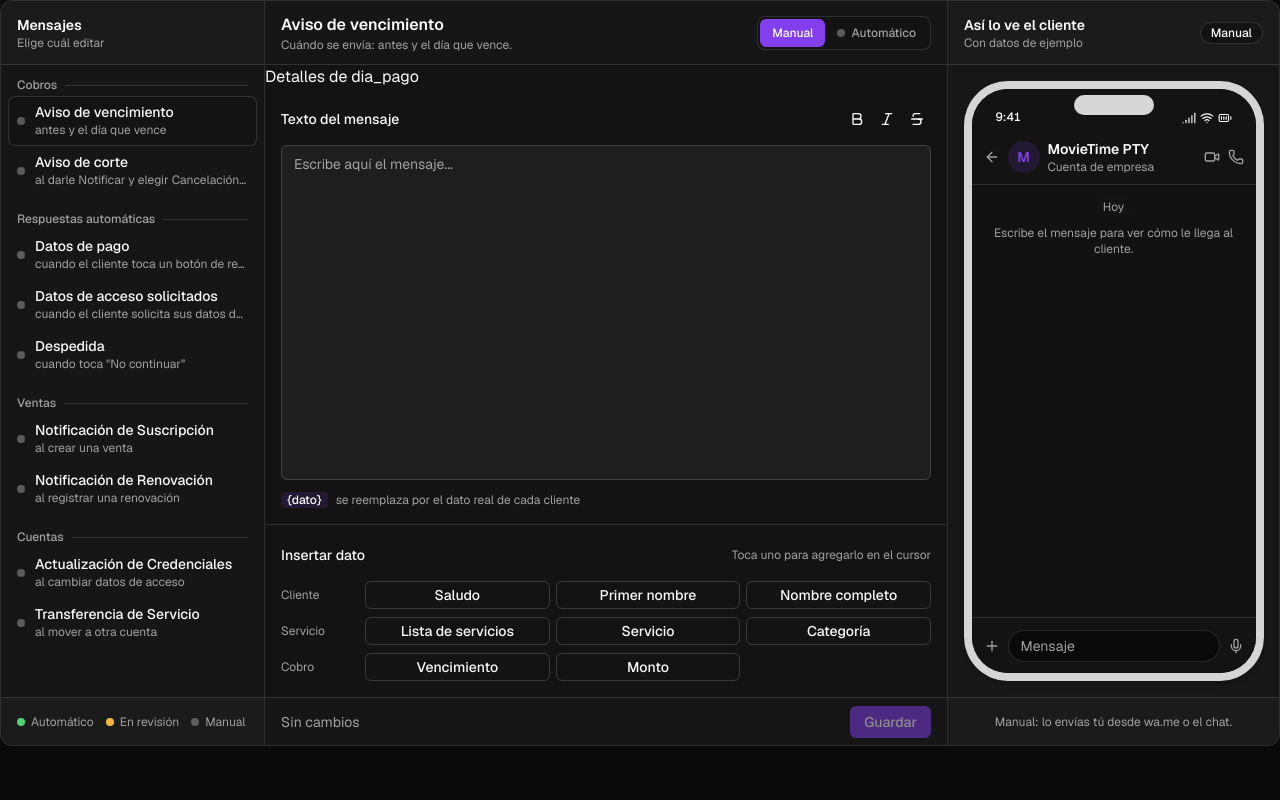
TemplateEditor › shows the extra details of the selected message and follows the selection
Expected: the text with test id "details" reads "Detalles de dia_pago", x1=265 y1=66 x2=419 y2=87
Click the button "Despedida cuando toca \"No continuar\"" at (132, 355), box x1=9 y1=331 x2=256 y2=379
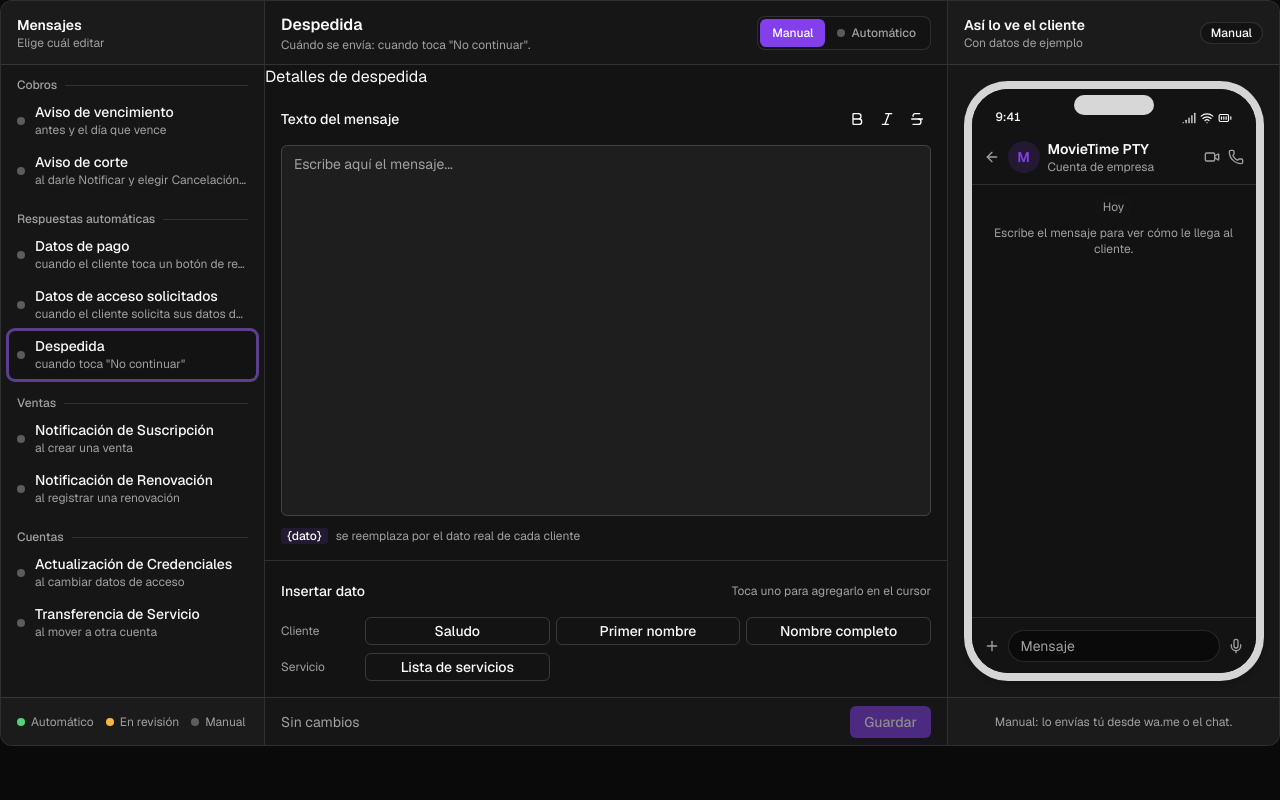
Expected: the text with test id "details" reads "Detalles de despedida", x1=265 y1=66 x2=427 y2=87
